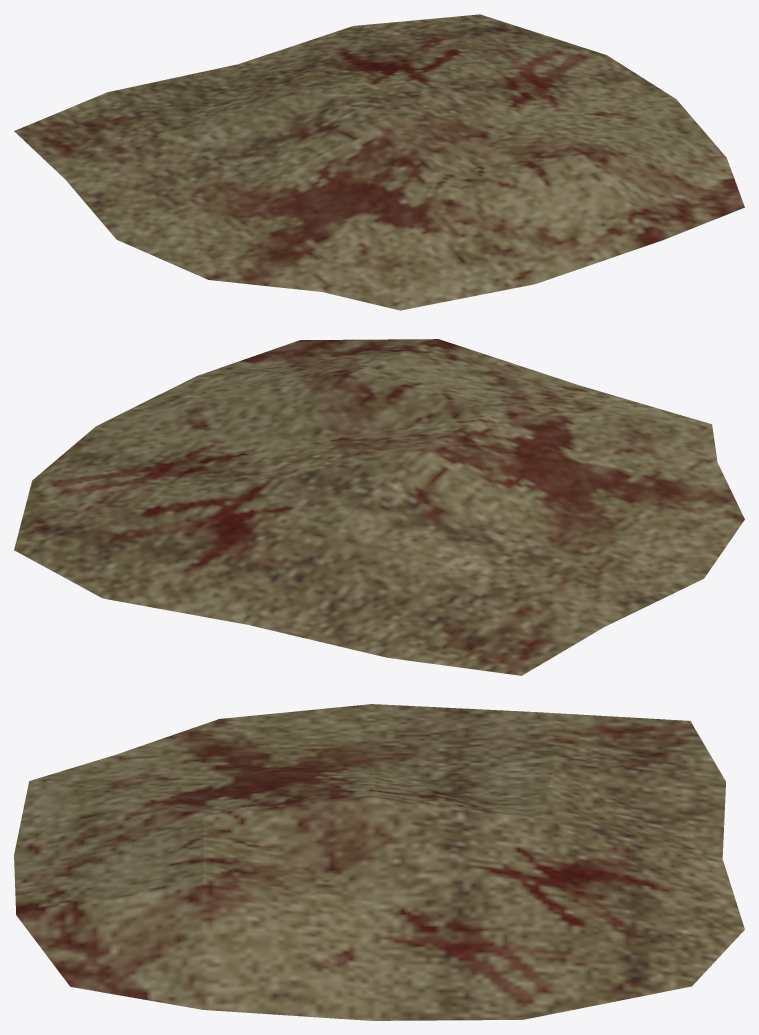
The model's file is SM_EC_Horror_Hay_Patch_1.fbx.
3 renders of one model, top to bottom at view 1: azimuth 30°, elevation 25°; view 2: azimuth 150°, elevation 25°; view 3: azimuth 270°, elevation 25°, orthographic. The views are drawn at different scales.
Visible parts, largest first — view 1: SM_EC_Horror_Hay_Patch_1; view 2: SM_EC_Horror_Hay_Patch_1; view 3: SM_EC_Horror_Hay_Patch_1.
Part boxes in pixels (<box>): SM_EC_Horror_Hay_Patch_1: <box>14,14,744,310</box>; SM_EC_Horror_Hay_Patch_1: <box>14,339,744,675</box>; SM_EC_Horror_Hay_Patch_1: <box>14,704,744,1020</box>.
Size of the model in its own units: 2.08 by 2 by 0.1791.
